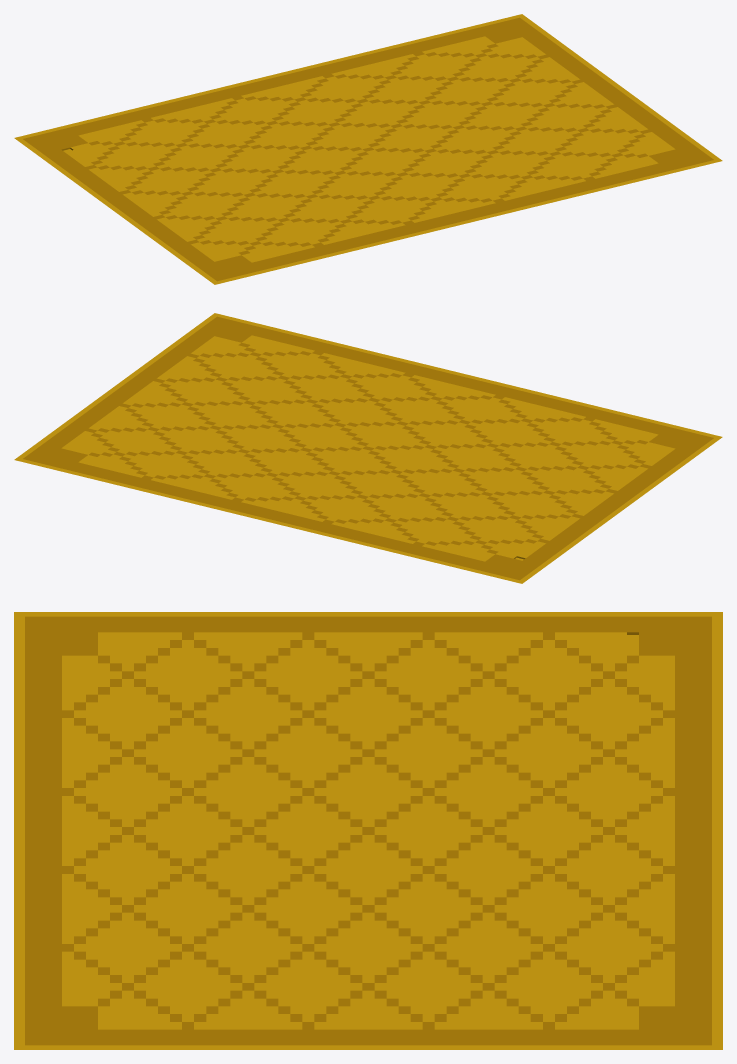
File: Carper V3.fbx
3 views of the same model, one above another, from view 1: azimuth 30°, elevation 25°; view 2: azimuth 150°, elevation 25°; view 3: azimuth 270°, elevation 25° (orthographic). The views are drawn at different scales.
Parts seen in each view (by area): view 1: Carpet V3; view 2: Carpet V3; view 3: Carpet V3.
Part boxes in pixels (x1,y1,x2,y2): Carpet V3: (14,14,722,284); Carpet V3: (14,313,722,583); Carpet V3: (14,612,722,1049).
Size of the model in its own units: 292 by 0.8063 by 200.
